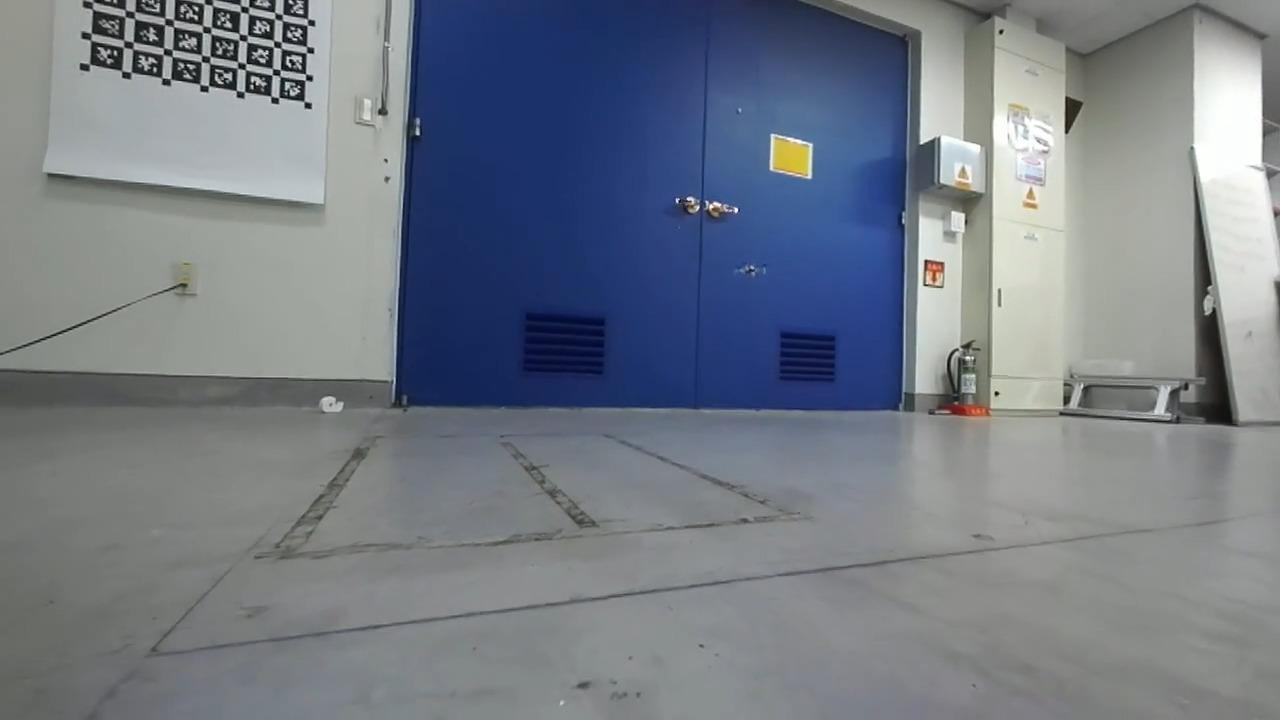crazyflie: (727, 258, 773, 282)
